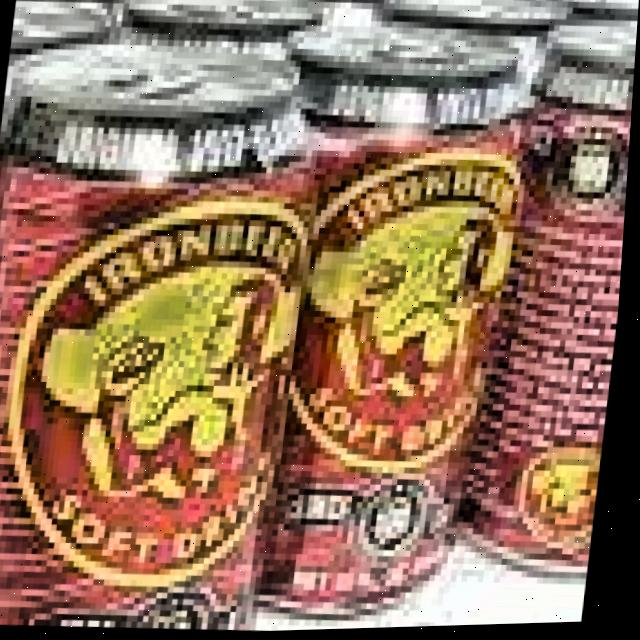metal: (0, 22, 337, 638), (229, 15, 548, 634), (473, 13, 639, 596), (0, 0, 141, 629), (106, 0, 331, 74), (375, 0, 580, 40), (14, 0, 185, 28), (537, 0, 639, 40), (254, 0, 417, 10)
